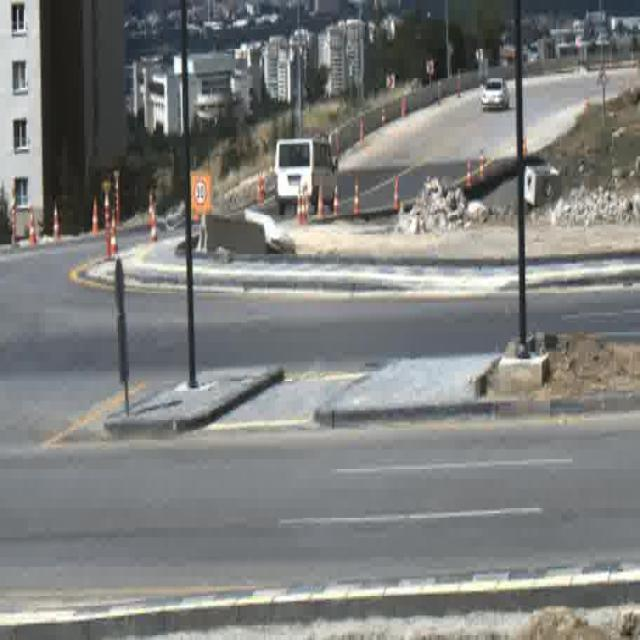Car: (276, 136, 337, 216), (481, 74, 508, 114)
